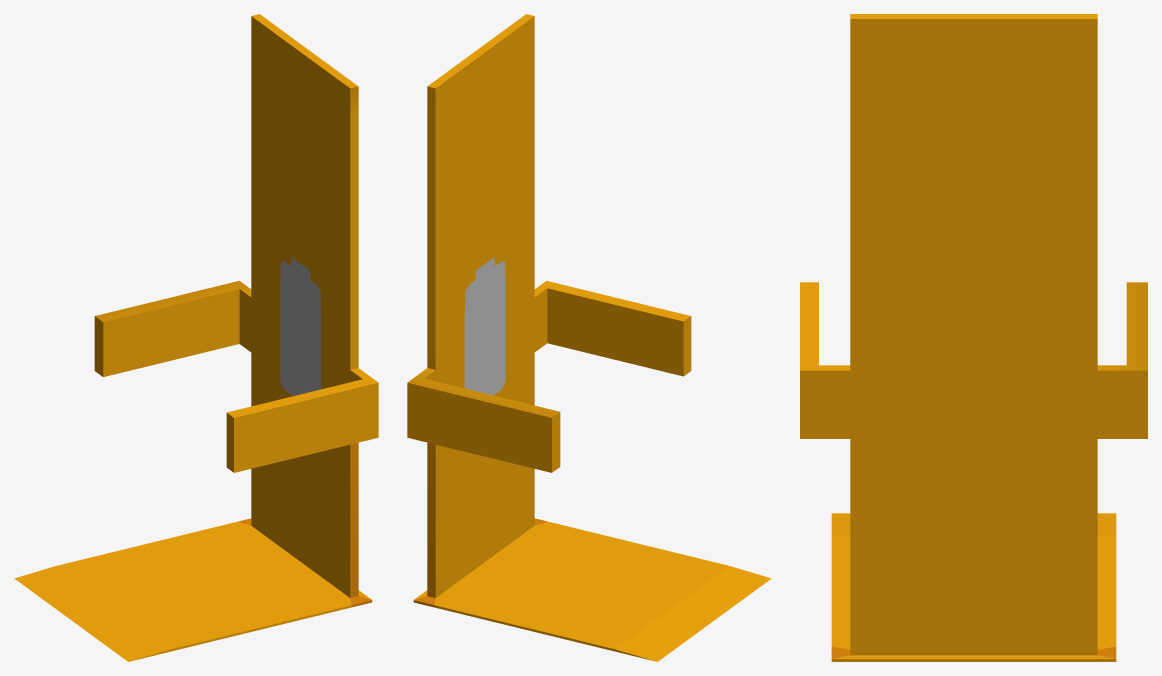
The model's file is EstacionCarga.fbx.
3 renders of one model, left to right at view 1: azimuth 30°, elevation 25°; view 2: azimuth 150°, elevation 25°; view 3: azimuth 270°, elevation 25°, orthographic. The views are drawn at different scales.
Visible parts, largest first — view 1: EstacionCarga; view 2: EstacionCarga; view 3: EstacionCarga.
Part boxes in pixels (<box>): EstacionCarga: <box>14,14,378,661</box>; EstacionCarga: <box>407,14,771,661</box>; EstacionCarga: <box>800,14,1147,661</box>.
Size of the model in its own units: 21.7 by 43.48 by 21.44.
